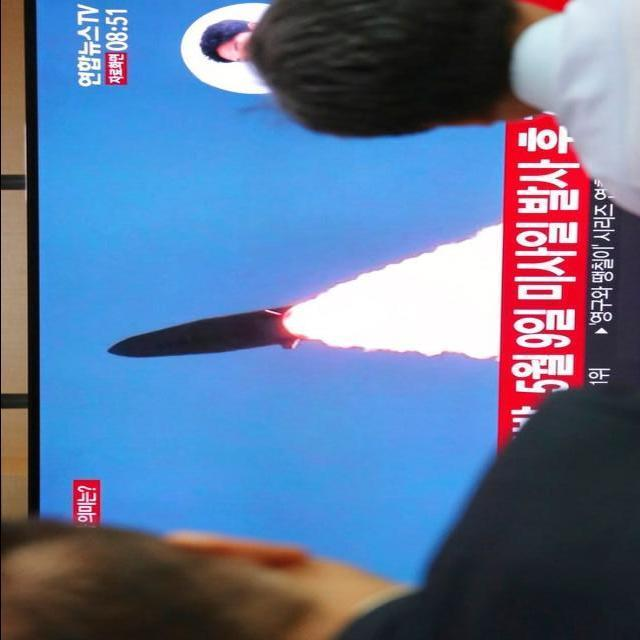Missile: (99, 300, 304, 362)
